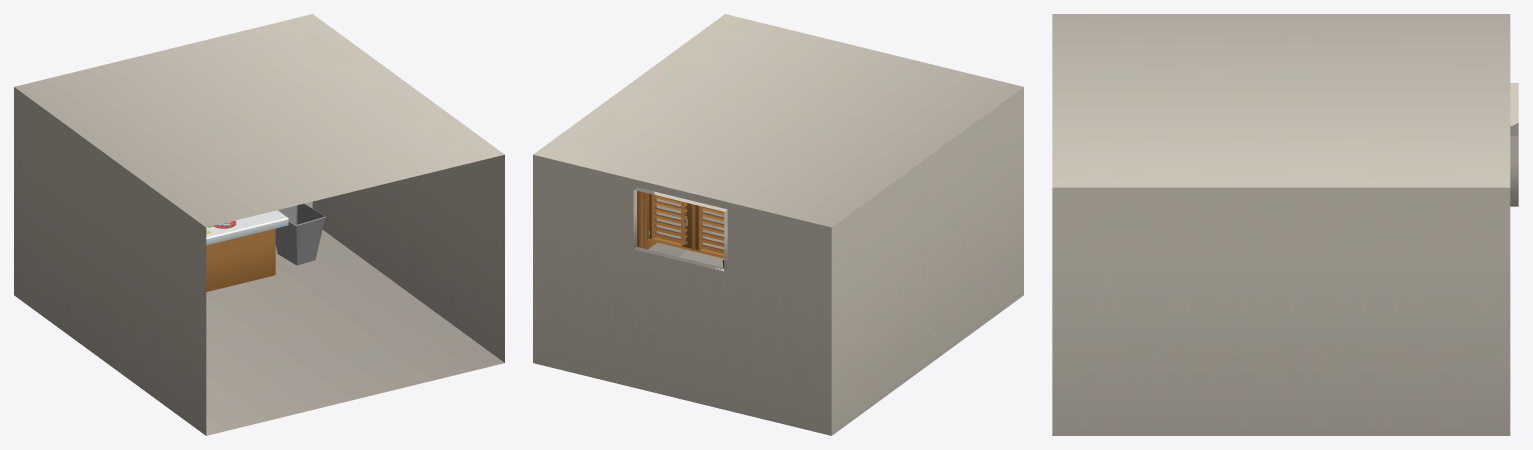
Rendered from CreditsScene.FBX.
The picture shows the model from 3 angles, left to right: view 1: azimuth 30°, elevation 25°; view 2: azimuth 150°, elevation 25°; view 3: azimuth 270°, elevation 25°; orthographic projection. The views are drawn at different scales.
Parts seen in each view (by area): view 1: Kitchen; view 2: Kitchen; view 3: Kitchen.
Part boxes in pixels (box(x1,y1,x2,y2)): Kitchen: box(14, 14, 504, 435); Kitchen: box(533, 14, 1023, 435); Kitchen: box(1052, 14, 1518, 435).
Bounding box in the file's own units: 6 × 4.01 × 6.8.
